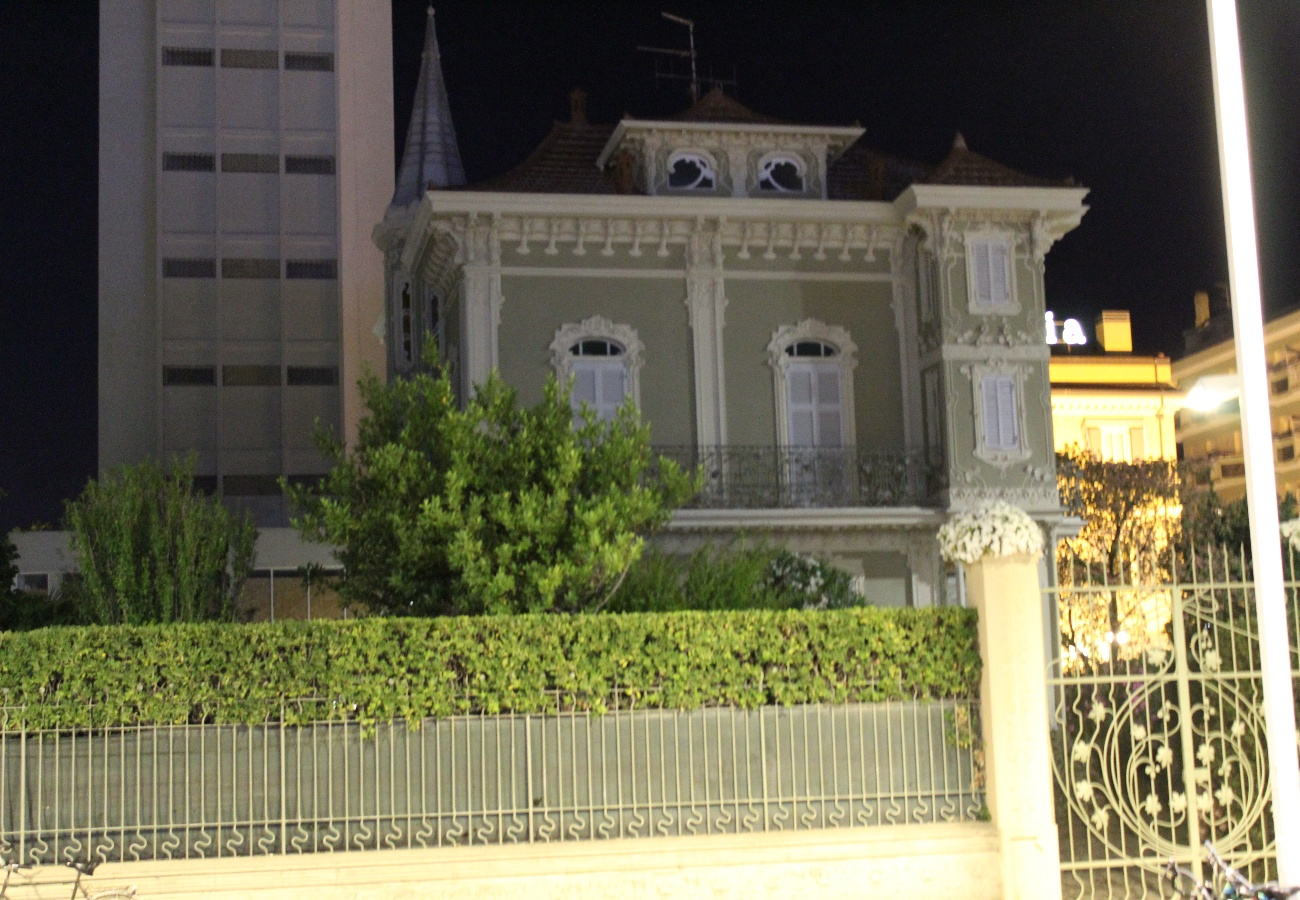Villino Ruggeri: (371, 2, 1089, 726)
